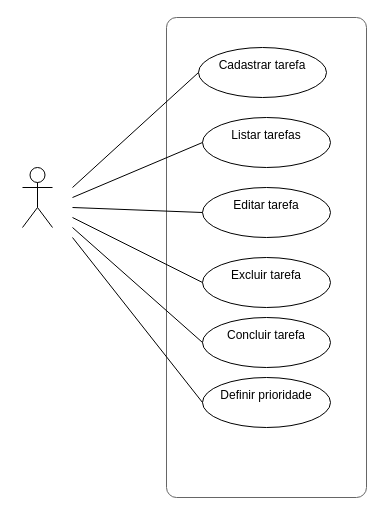
Image size: 384x515. Some labels were removed from this diagram. The shapes that lost their labels are listed below. From the top down, each one's box as (x1, y1, x2, y2) in pixels, then its label:
(22, 166, 52, 228): Usuário
(166, 16, 366, 498): TaskFlow [Gustavo Teles]
